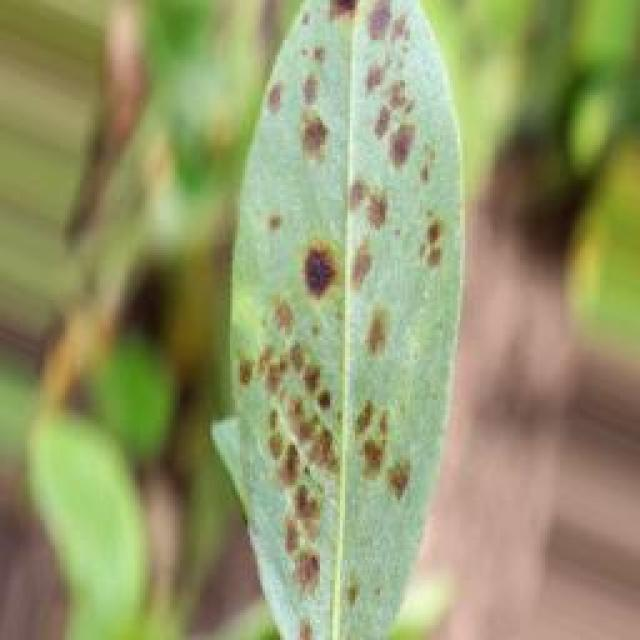Whitefly: (194, 0, 459, 640)
